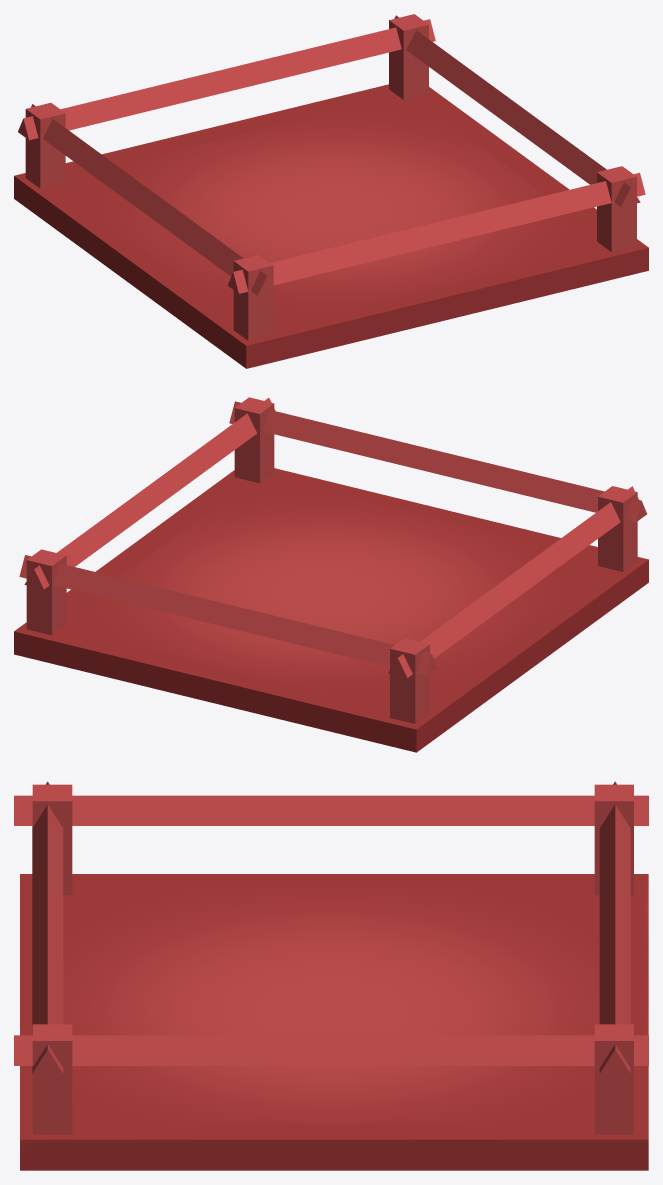
The model's file is Plataforma 4.fbx.
The picture shows the model from 3 angles, top to bottom: view 1: azimuth 30°, elevation 25°; view 2: azimuth 150°, elevation 25°; view 3: azimuth 270°, elevation 25°; orthographic projection. The views are drawn at different scales.
Visible parts, largest first — view 1: Cylinder.012; view 2: Cylinder.012; view 3: Cylinder.012.
Boxes of the visible parts, x1,y1,x2,y2 form: Cylinder.012: [14, 14, 648, 368]; Cylinder.012: [14, 397, 648, 752]; Cylinder.012: [14, 781, 648, 1170].
Size of the model in its own units: 595 by 129 by 595.
